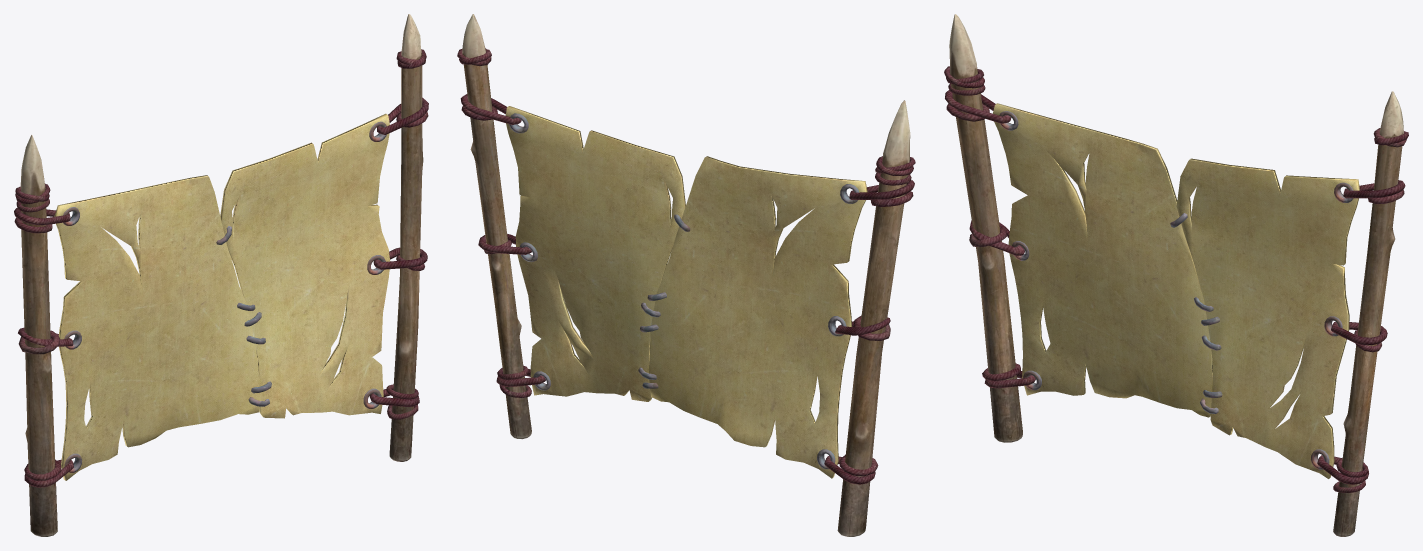
3 views of the same model, side by side, from view 1: azimuth 30°, elevation 25°; view 2: azimuth 150°, elevation 25°; view 3: azimuth 330°, elevation 25° (orthographic). The views are drawn at different scales.
Parts seen in each view (by area): view 1: SM_Moon_Garou_Fence_01v1_LOD0; view 2: SM_Moon_Garou_Fence_01v1_LOD0; view 3: SM_Moon_Garou_Fence_01v1_LOD0.
Part boxes in pixels (<box>): SM_Moon_Garou_Fence_01v1_LOD0: <box>14,14,428,536</box>; SM_Moon_Garou_Fence_01v1_LOD0: <box>457,14,915,536</box>; SM_Moon_Garou_Fence_01v1_LOD0: <box>944,14,1408,536</box>.
Bounding box in the file's own units: 4.31 × 4.08 × 0.6357.
Materials: 4 (4 with a texture image).
